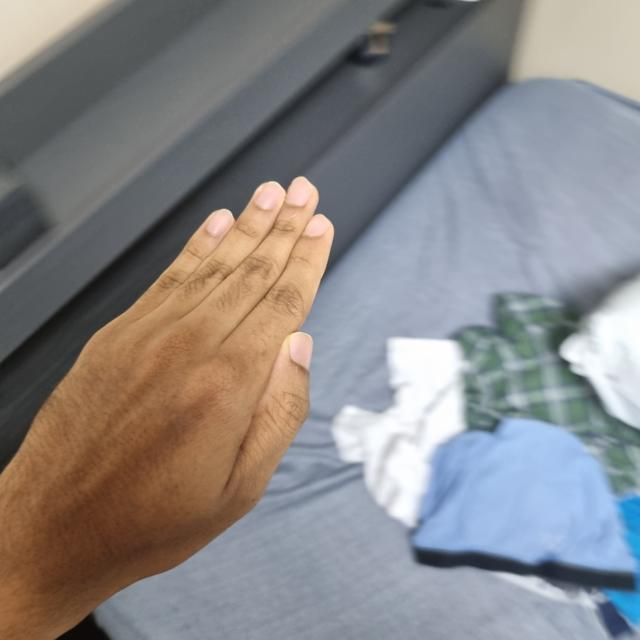Paper: (25, 177, 330, 589)
